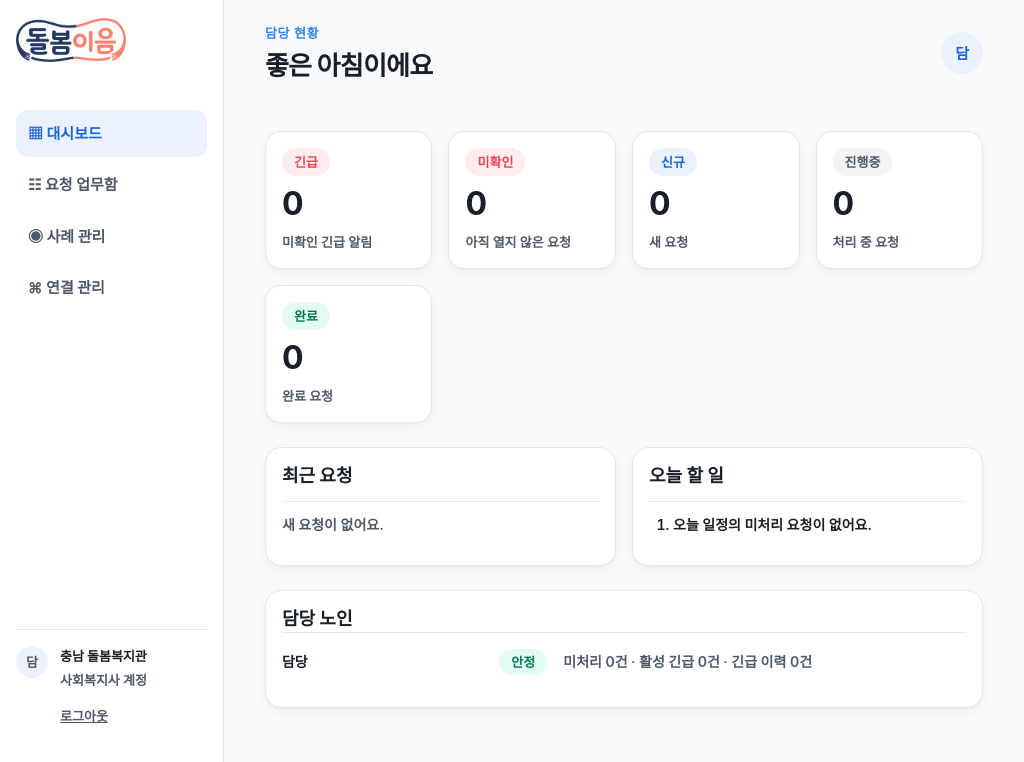
Test case: WorkerDashboard — inbox driven by real API + realtime, not hardcoded mock data (Phase 4) › lets a worker edit and save a case memo from the request detail page
Click the button "☷ 요청 업무함".
click(112, 185)  # box top-left (16, 161), bottom-right (207, 209)
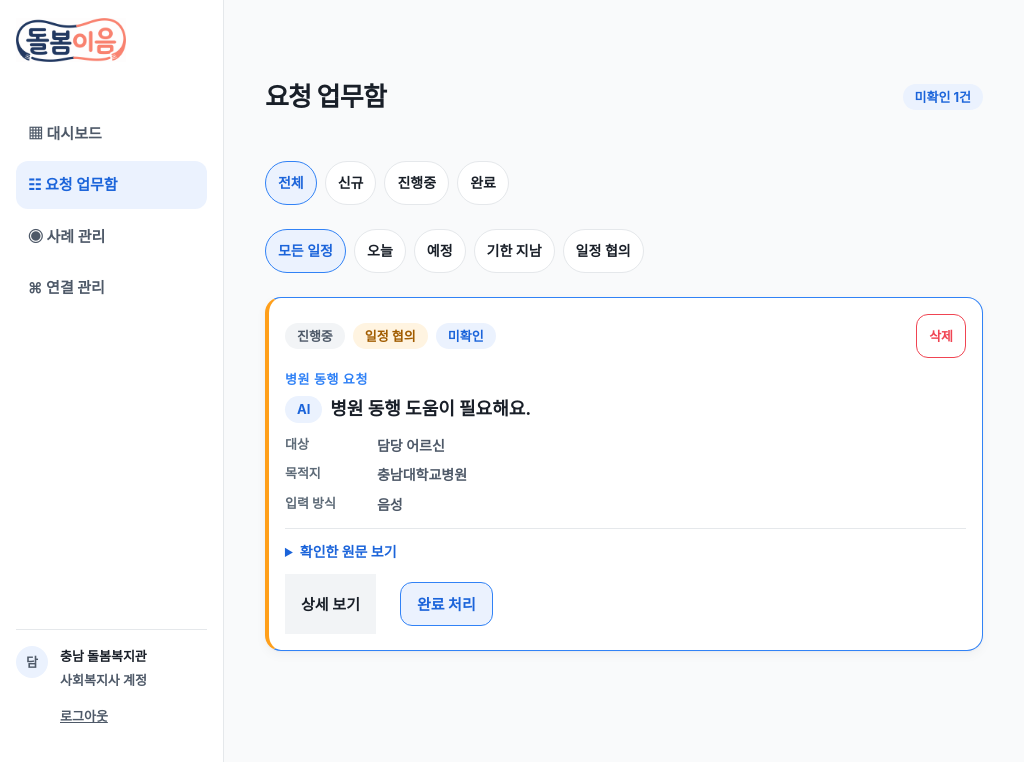
Now the text "병원 동행 도움이 필요해요." is shown, box top-left (330, 398), bottom-right (531, 419)
Click the button "상세 보기".
click(330, 604)  # box top-left (285, 574), bottom-right (376, 634)
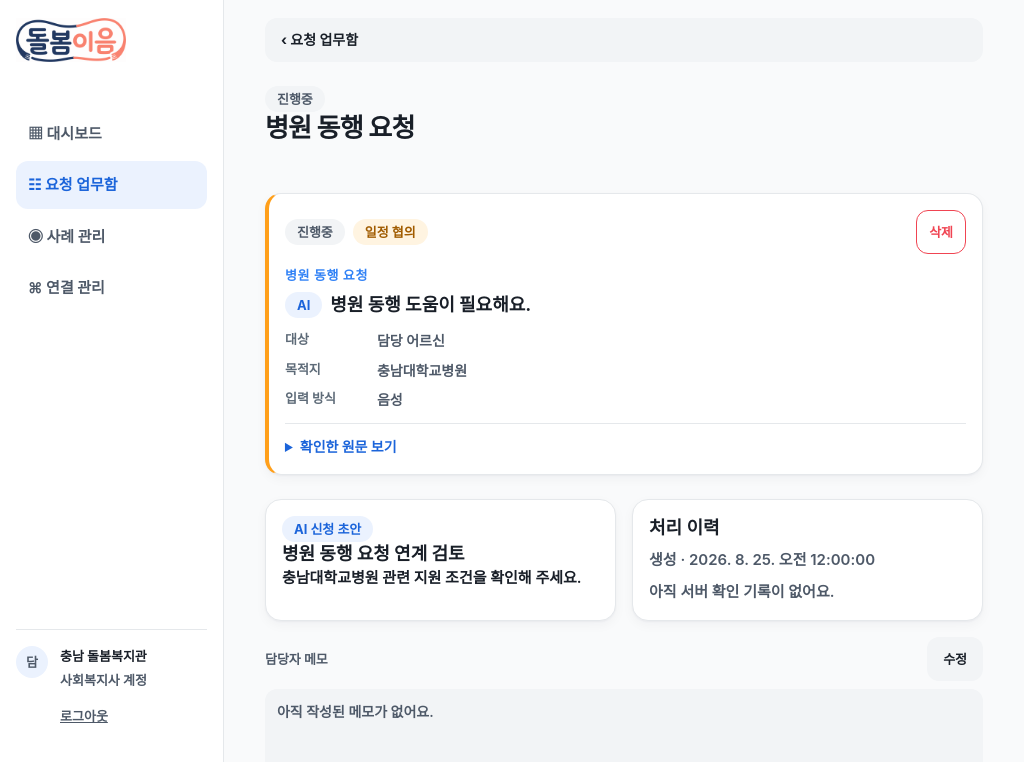
Click the button "수정".
click(955, 659)  # box top-left (927, 637), bottom-right (983, 681)
(page scrolled)
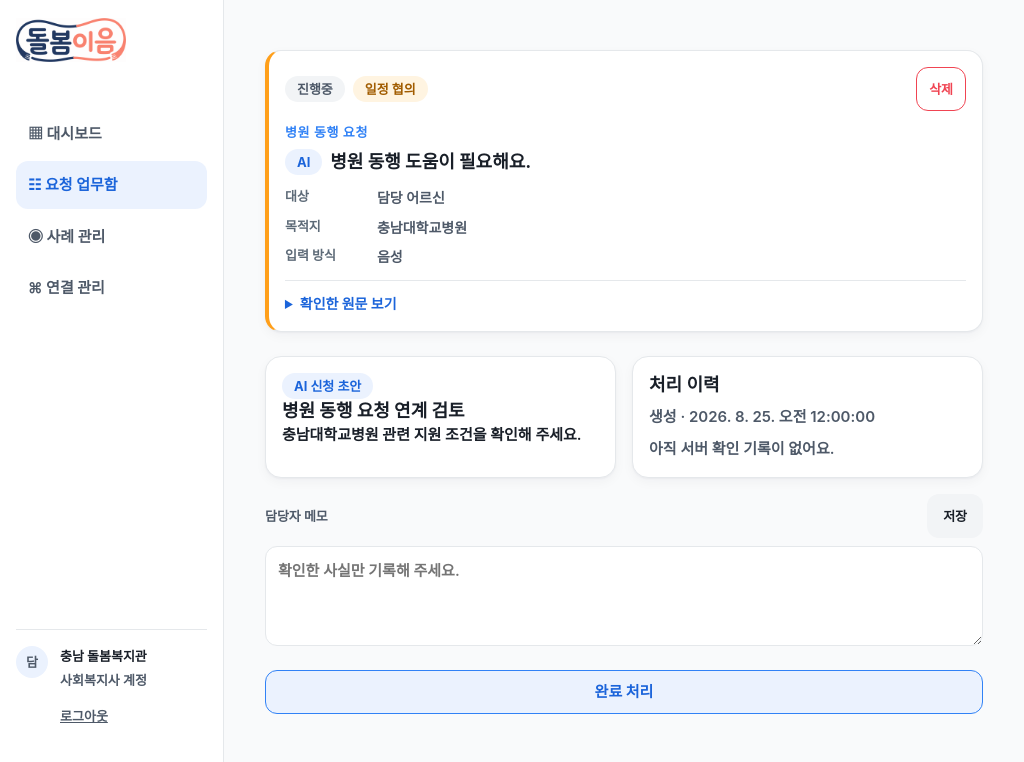
Type "메모 내용" into the text box with placeholder "확인한 사실만 기록해 주세요.".
click(624, 596); type("메모 내용")  # box top-left (265, 546), bottom-right (983, 646)
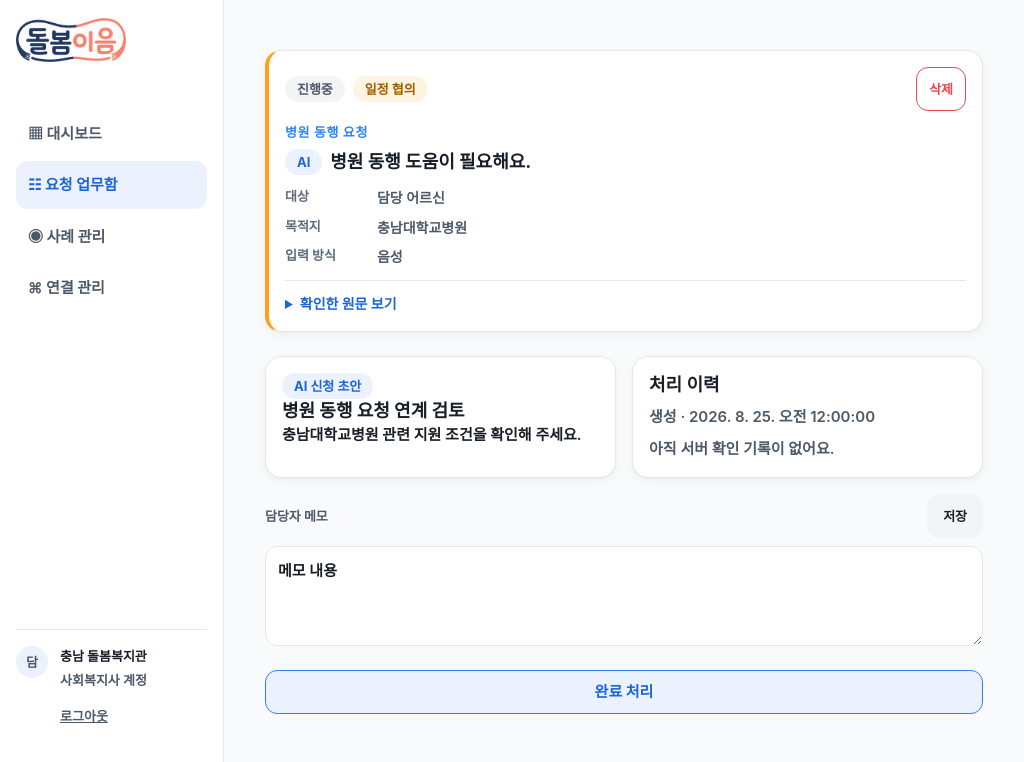
Click the button "저장".
click(955, 516)  # box top-left (927, 494), bottom-right (983, 538)
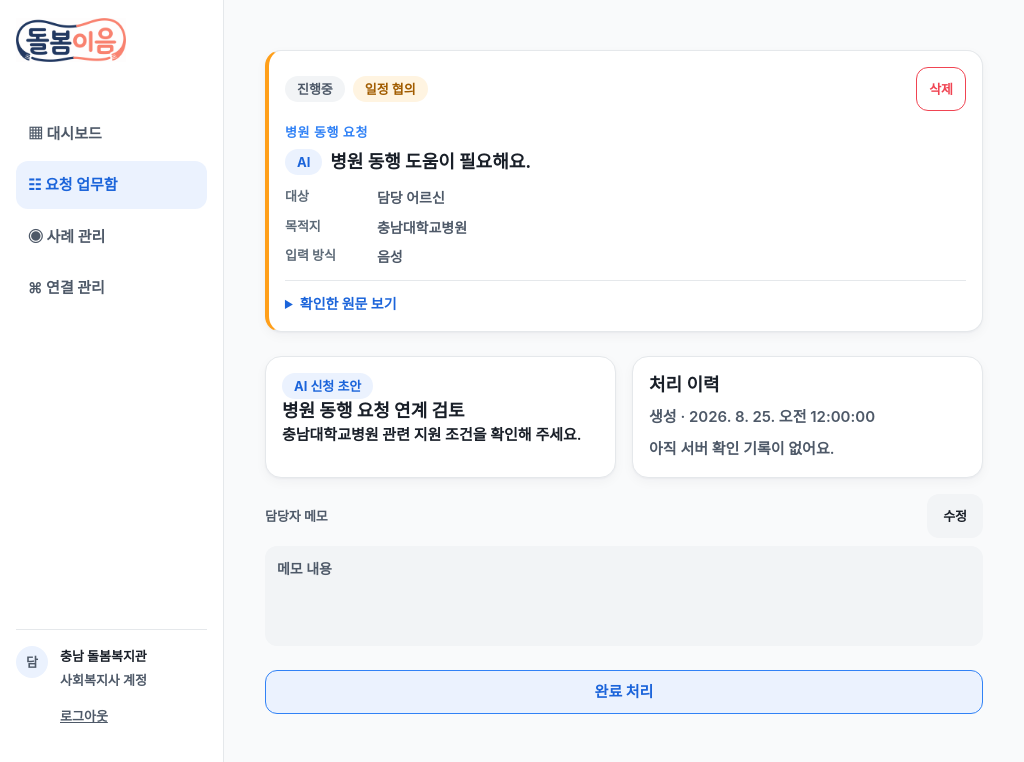
Now the text "메모 내용" is shown, box top-left (265, 546), bottom-right (983, 646)
